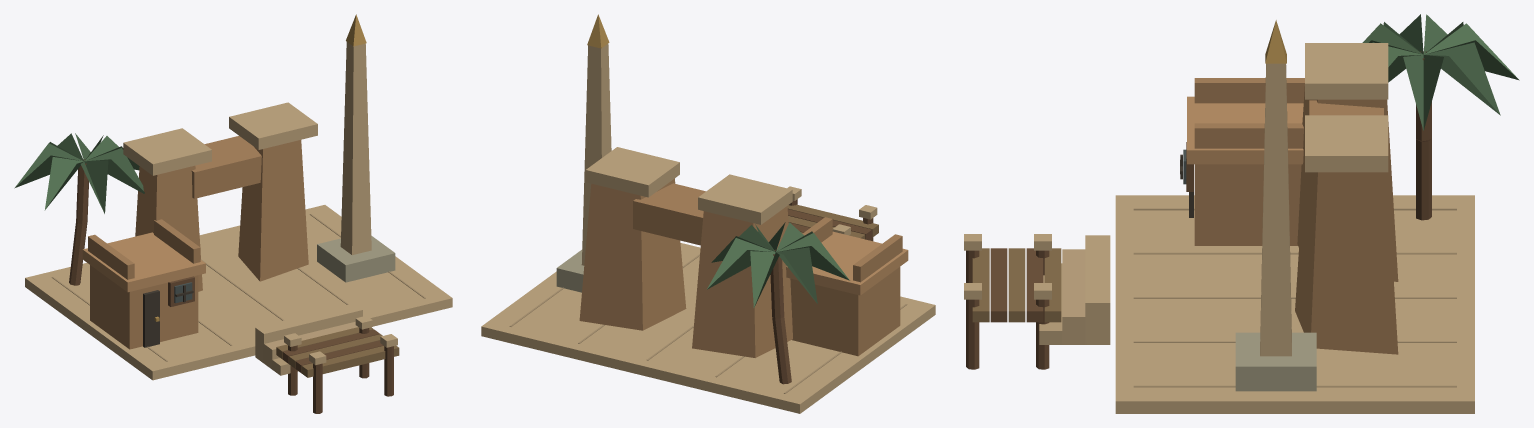
3 renders of one model, left to right at view 1: azimuth 30°, elevation 25°; view 2: azimuth 150°, elevation 25°; view 3: azimuth 270°, elevation 25°, orthographic. The views are drawn at different scales.
Visible parts, largest first — view 1: S23_开罗 · 河畔方尖碑; view 2: S23_开罗 · 河畔方尖碑; view 3: S23_开罗 · 河畔方尖碑.
Part boxes in pixels (x1,y1,x2,y2): S23_开罗 · 河畔方尖碑: (14, 14, 452, 413); S23_开罗 · 河畔方尖碑: (481, 14, 935, 413); S23_开罗 · 河畔方尖碑: (964, 14, 1519, 413).
Size of the model in its own units: 3.97 by 3.43 by 4.33.
